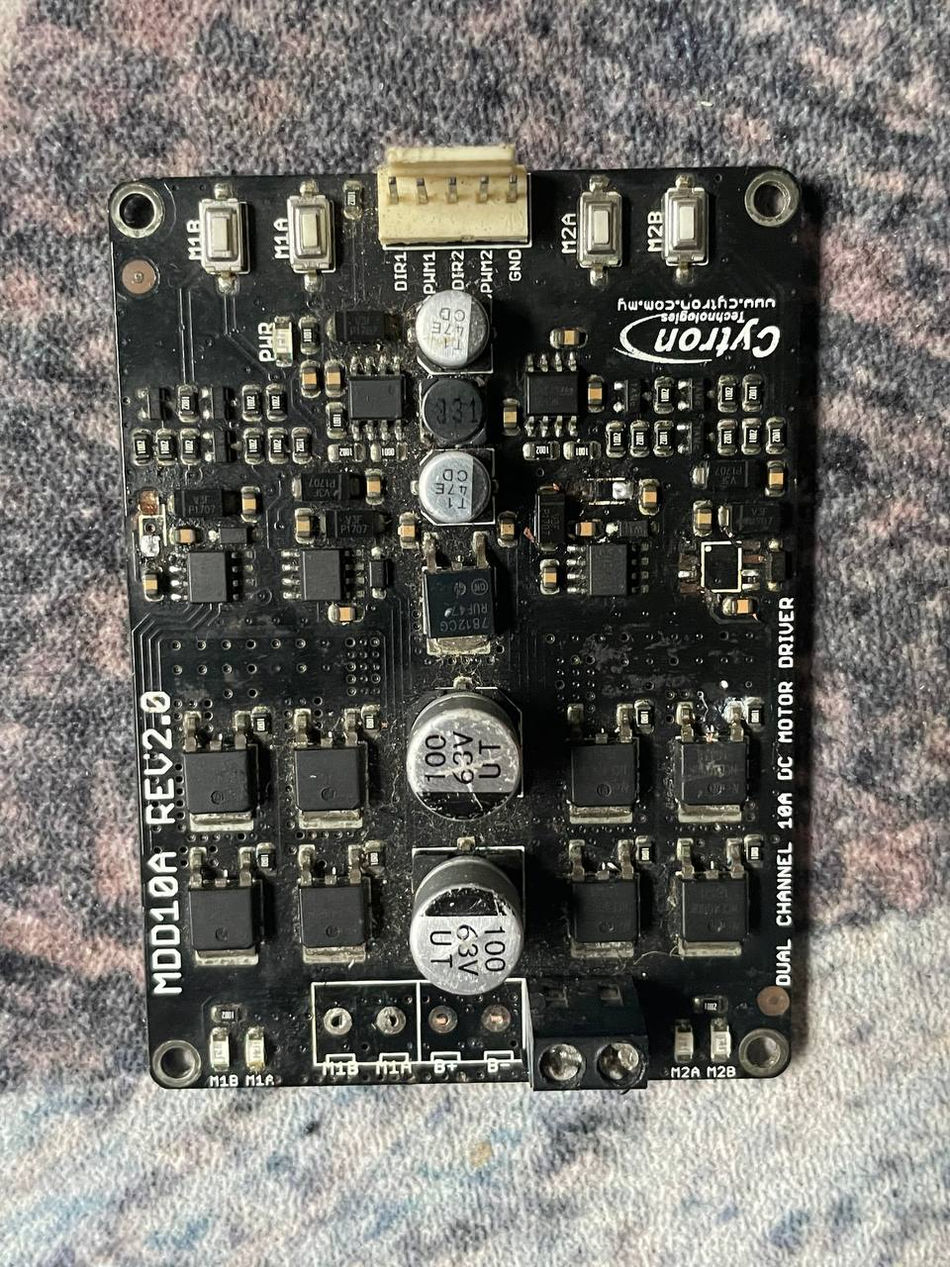missing_comp: (695, 538, 747, 599), (135, 496, 171, 567), (581, 476, 641, 507)
missing_tb: (314, 982, 418, 1074), (420, 982, 524, 1074)
